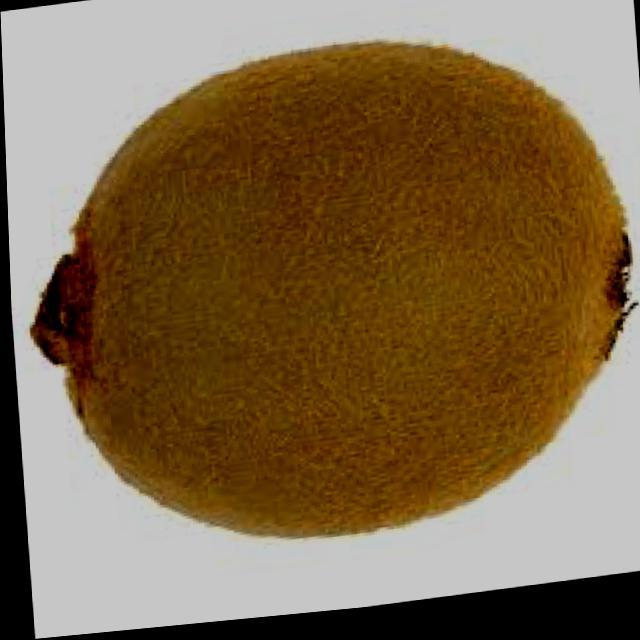kiwi: (8, 14, 640, 572)
